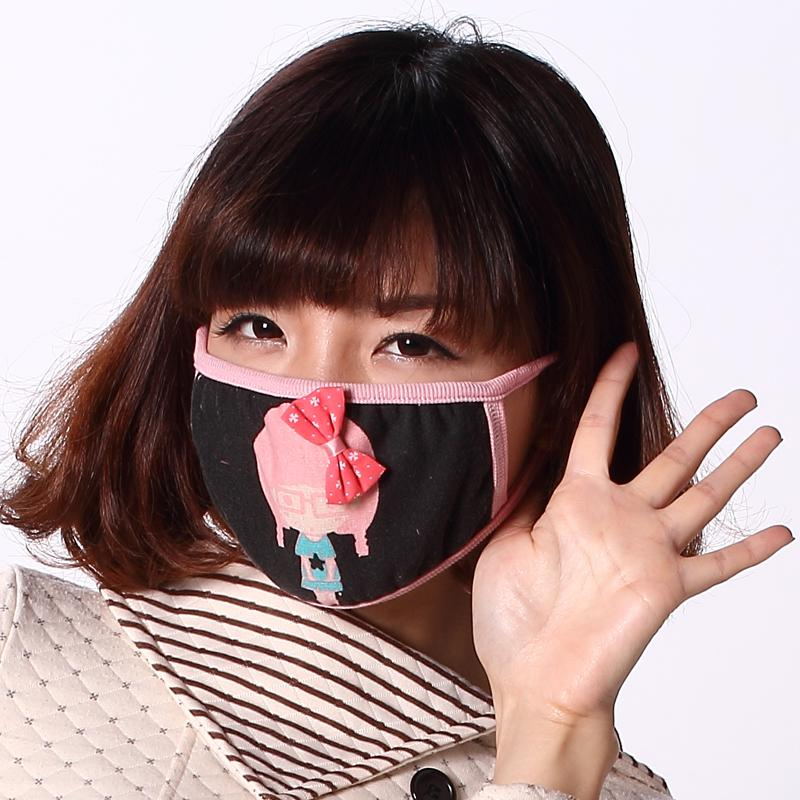OK: (185, 253, 539, 607)
